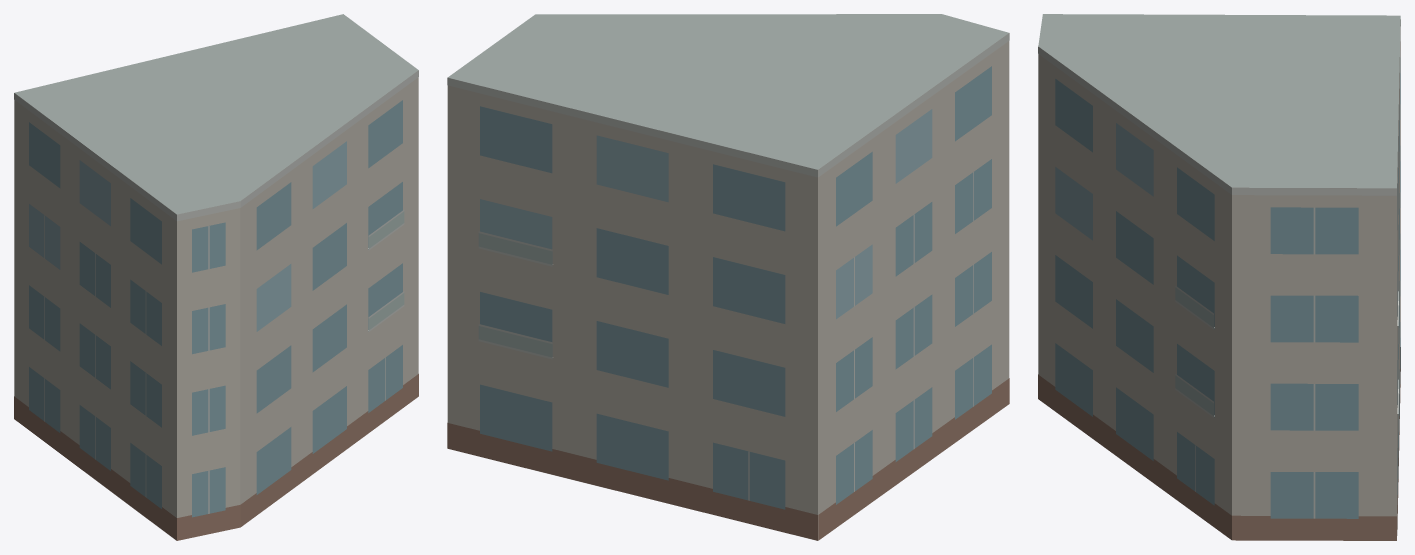
Rendered from survey-upis-32793923.glb.
3 renders of one model, left to right at view 1: azimuth 30°, elevation 25°; view 2: azimuth 150°, elevation 25°; view 3: azimuth 270°, elevation 25°, orthographic. The views are drawn at different scales.
Parts seen in each view (by area): view 1: survey-upis-32793923.tmp; view 2: survey-upis-32793923.tmp; view 3: survey-upis-32793923.tmp.
Part boxes in pixels (box(x1,y1,x2,y2)): survey-upis-32793923.tmp: box(14, 14, 418, 540); survey-upis-32793923.tmp: box(447, 14, 1009, 540); survey-upis-32793923.tmp: box(1038, 14, 1400, 540).
Bounding box in the file's own units: 12.41 × 11.7 × 10.91.
